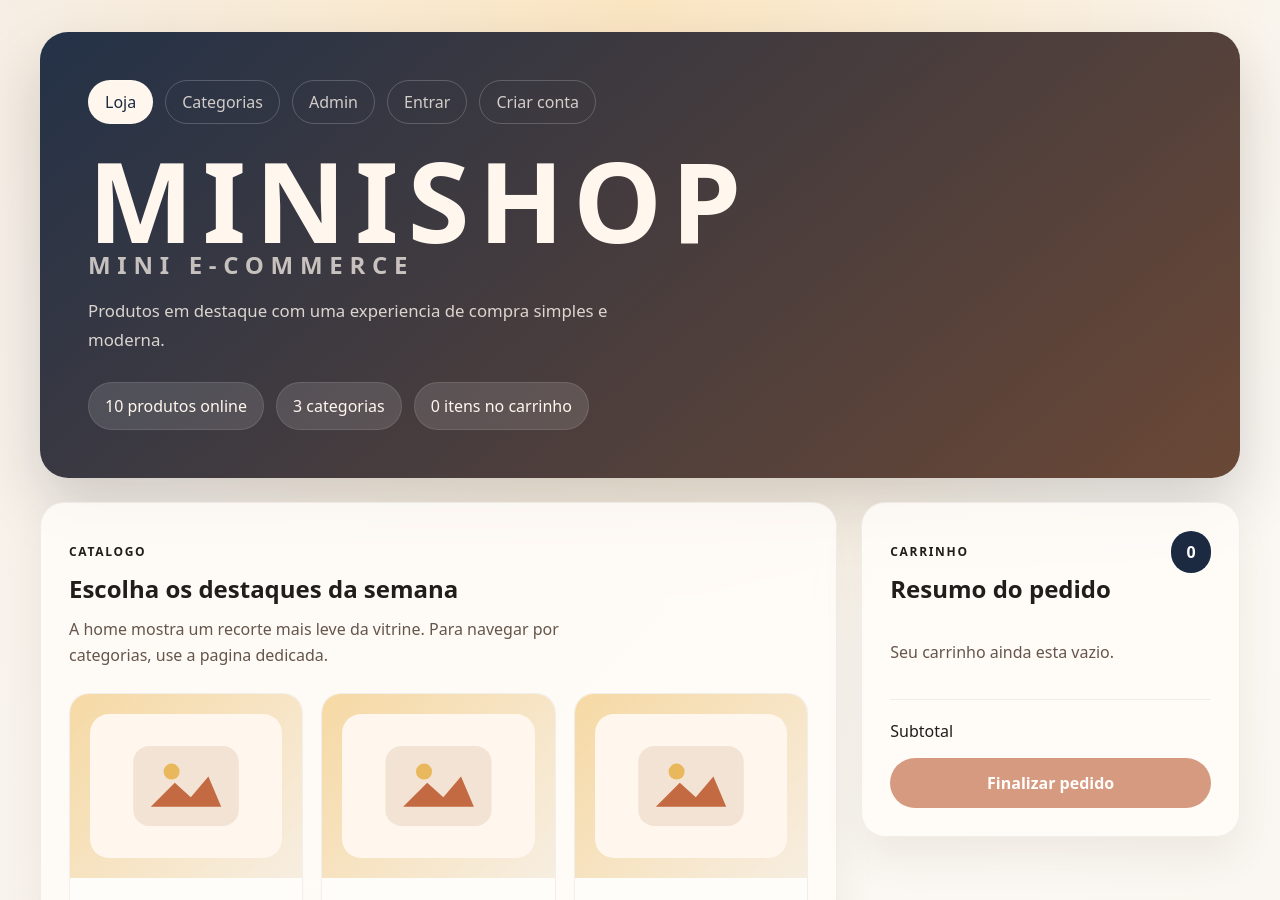
it: App › abre a pagina de categorias pela navegacao
The image size is (1280, 900).
What coordinates should you click on to do the following:
click the link "Categorias"
I would click on:
 (223, 102)
Its box is [165,80,280,124].
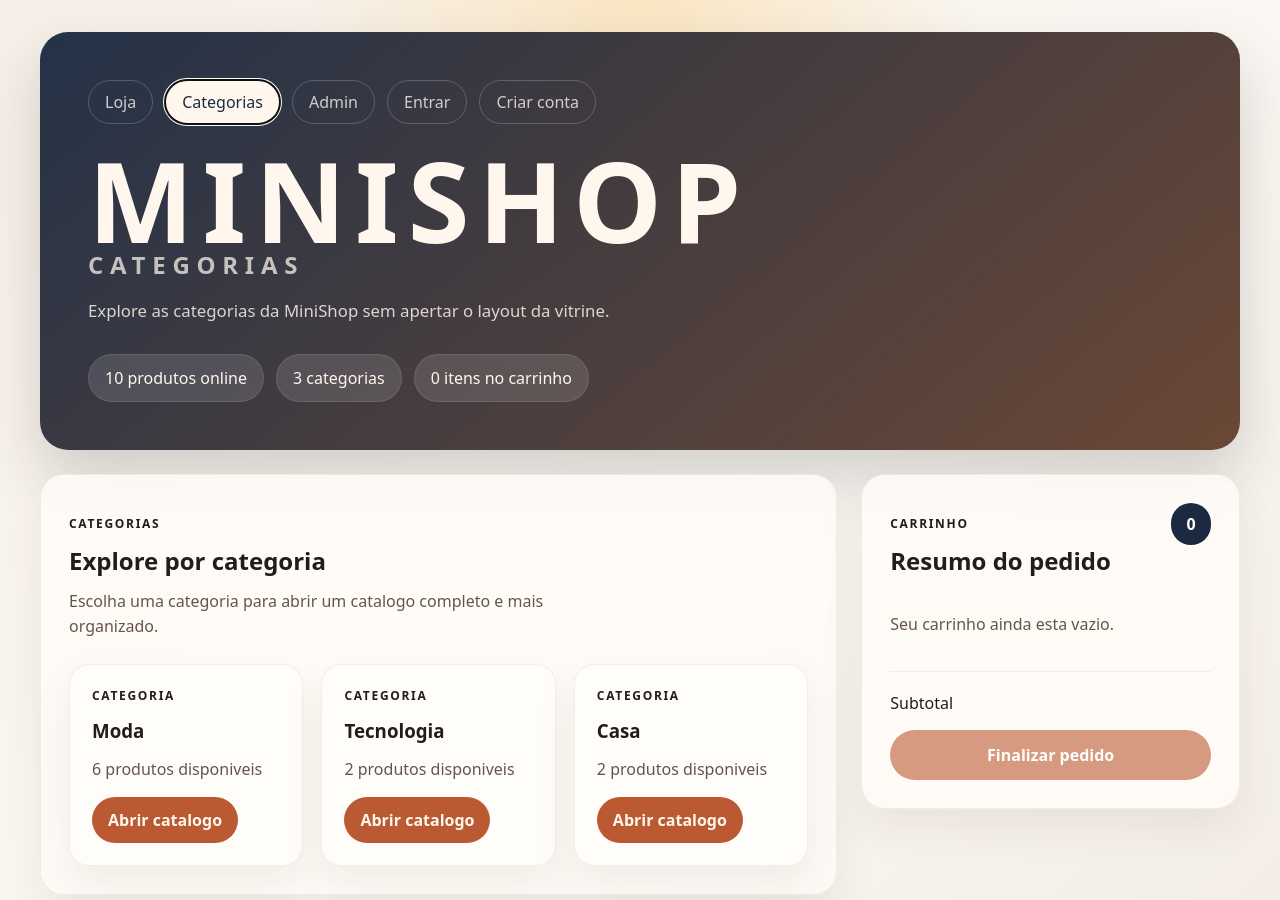
Expected: the heading "Tecnologia" is shown, [344,718,445,743]
Expected: the heading "Explore por categoria" is shown, [69,544,326,577]
